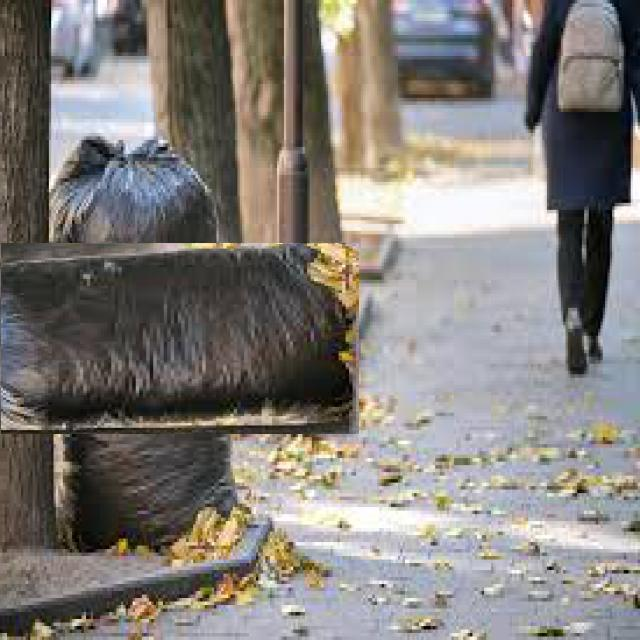Trashbag: (0, 255, 341, 418), (48, 438, 227, 556), (50, 147, 208, 245)
